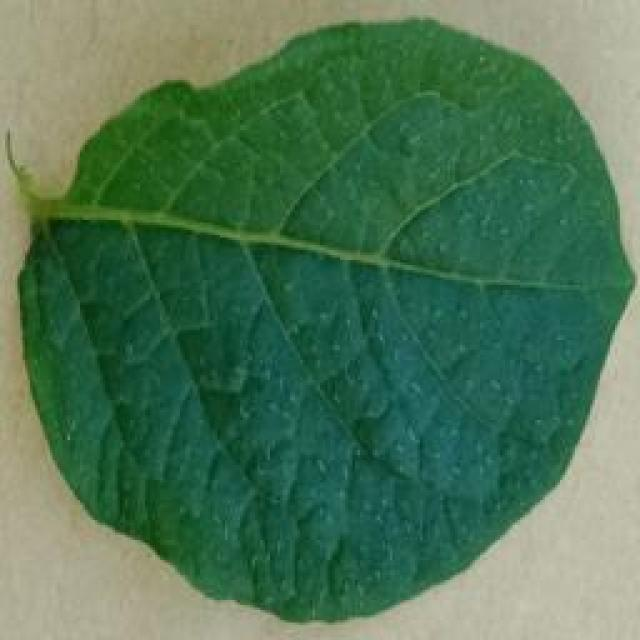Potato_Healthy: (9, 18, 623, 623)
